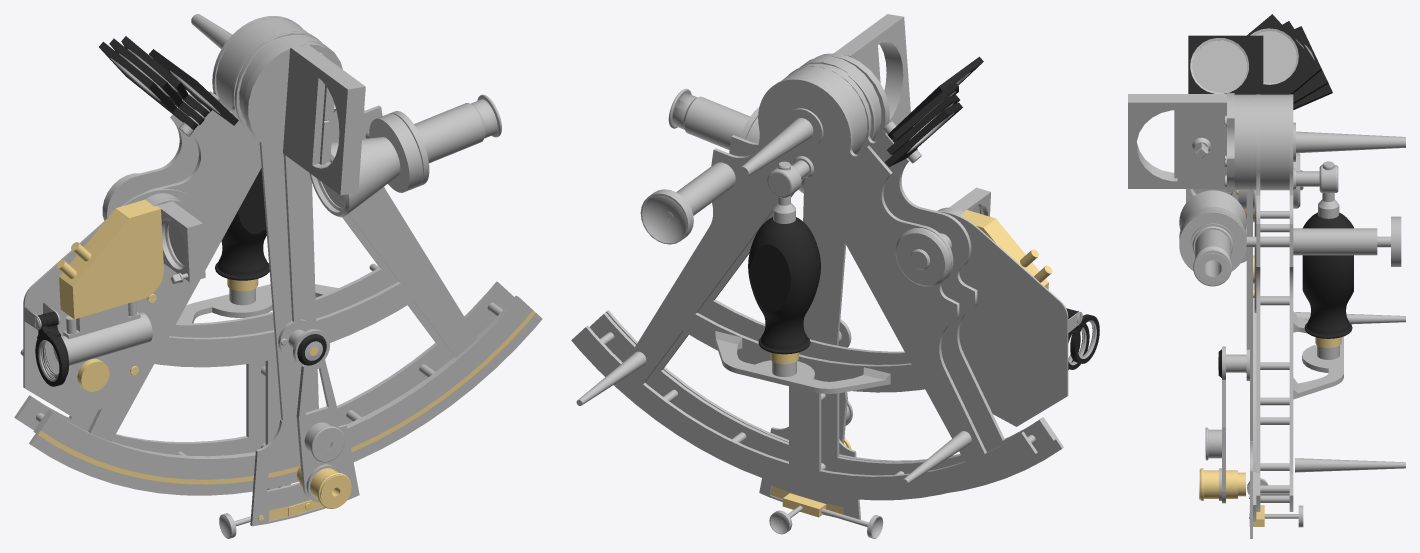
3 renders of one model, left to right at view 1: azimuth 30°, elevation 25°; view 2: azimuth 150°, elevation 25°; view 3: azimuth 270°, elevation 25°, orthographic. The views are drawn at different scales.
Parts seen in each view (by area): view 1: Sextant pitt 3; view 2: Sextant pitt 3; view 3: Sextant pitt 3.
Part boxes in pixels (x1,y1,x2,y2): Sextant pitt 3: (14, 14, 542, 538); Sextant pitt 3: (571, 14, 1099, 538); Sextant pitt 3: (1128, 14, 1405, 538).
Size of the model in its own units: 52.47 by 50.19 by 28.38.
